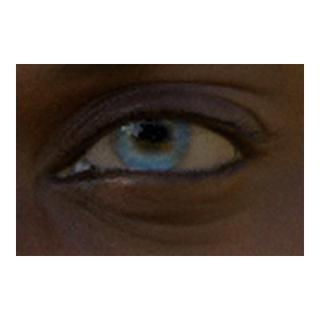pupil: (137, 120, 166, 149)
